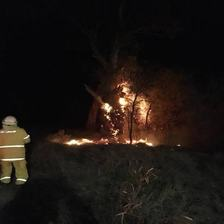fire: (47, 67, 181, 151)
